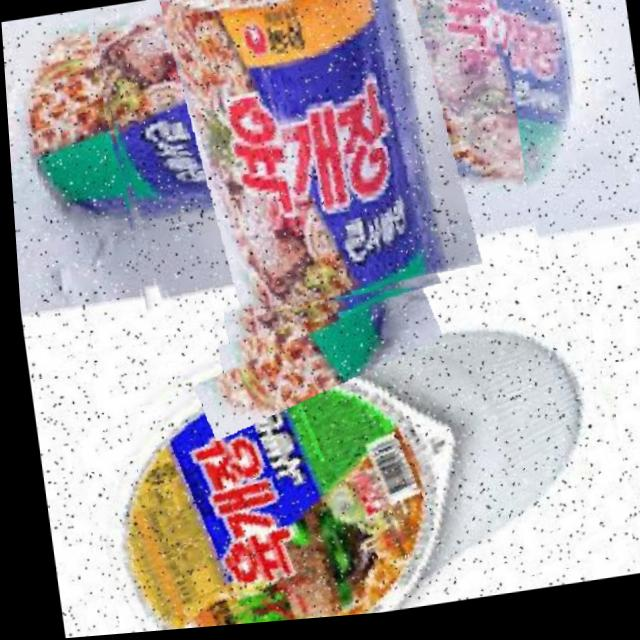Miscellaneous: (47, 252, 628, 638), (88, 0, 534, 336)
